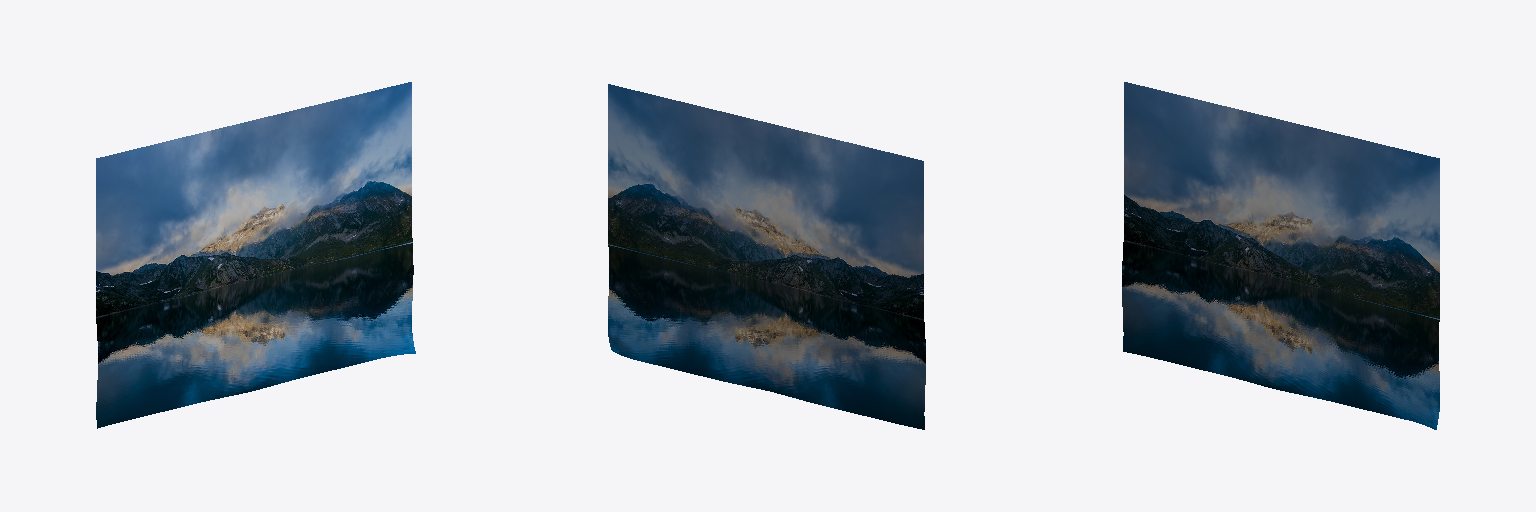
The picture shows the model from 3 angles: view 1: azimuth 30°, elevation 25°; view 2: azimuth 150°, elevation 25°; view 3: azimuth 330°, elevation 25°; orthographic projection.
Parts seen in each view (by area): view 1: Plane001; view 2: Plane001; view 3: Plane001.
Part boxes in pixels (x1,y1,x2,y2): Plane001: (96, 82, 415, 428); Plane001: (608, 84, 925, 429); Plane001: (1122, 82, 1439, 429).
Size of the model in its own units: 99.87 by 81.37 by 1.99.
1 materials, 1 textured.